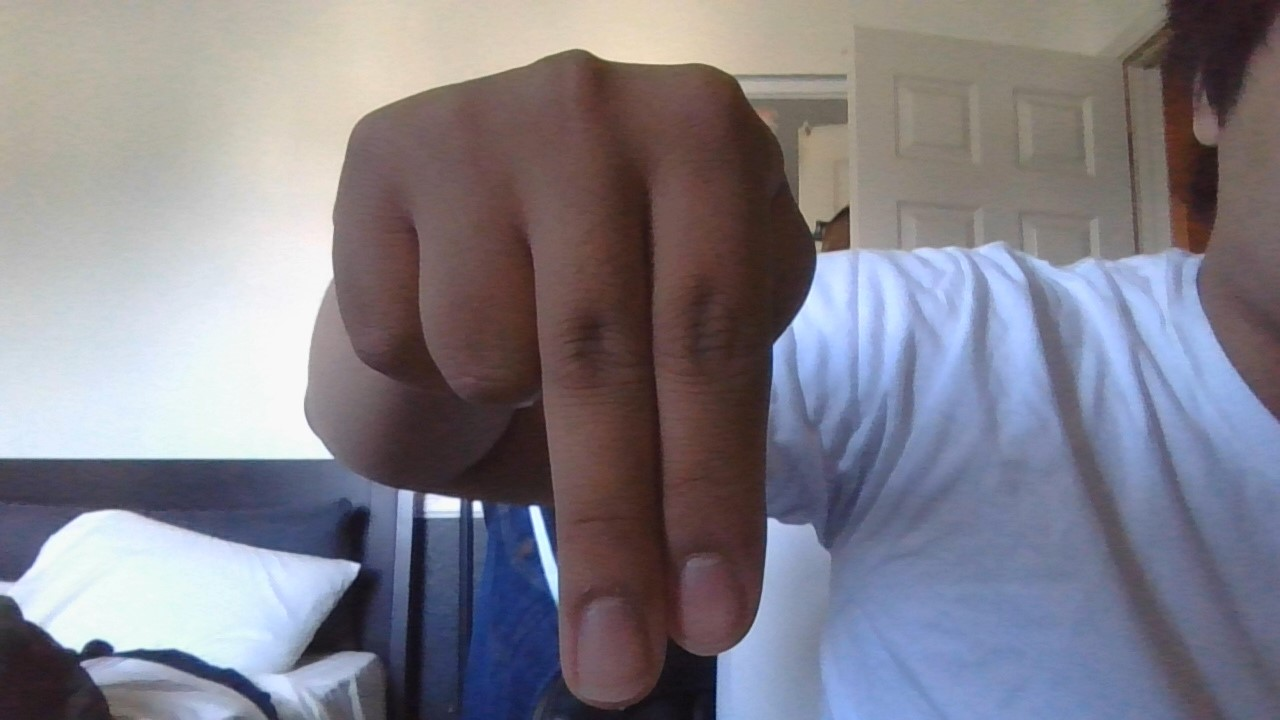n: (302, 37, 844, 717)
